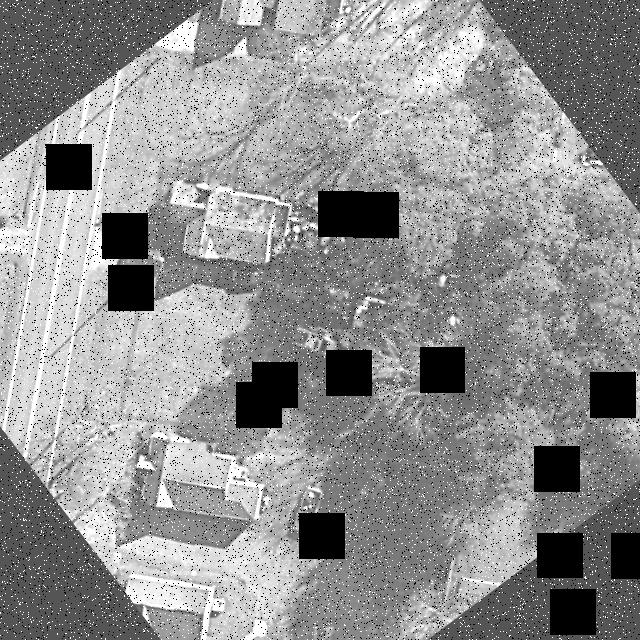Driveway: (146, 253, 260, 300)
Extra Driveway: (87, 236, 145, 277)
Extra Lawn: (65, 270, 141, 414), (96, 155, 159, 249)
House: (168, 182, 292, 266)
